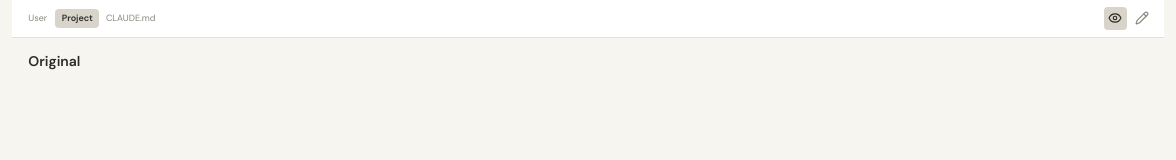
Test: MemoryEditor › shows saved status after successful save
This screenshot has width=1176, height=160.
Expected: the heading "Original" is shown, [28,52,80,70]
Click the button named "Edit mode". click: (1142, 18)
box: [1130,6,1154,30]
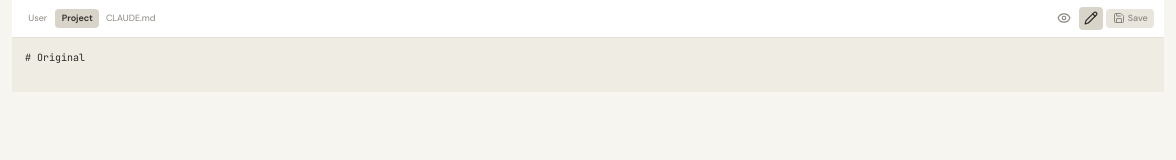
Result: the text box named "CLAUDE.md editor" is shown
Replace the text in the text box named "CLAUDE.md editor" with "# Updated". click: (588, 65)
box: [12,38,1164,92]
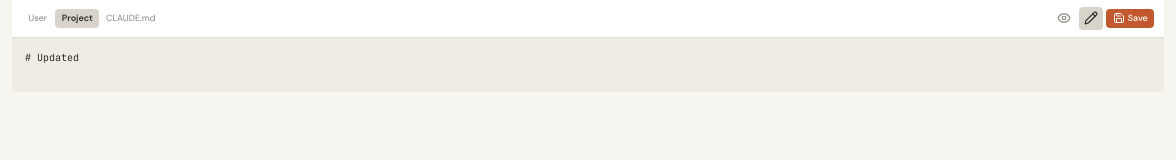
Click the button with aria-label "Save changes". click: (1130, 18)
box: [1106,9,1154,28]
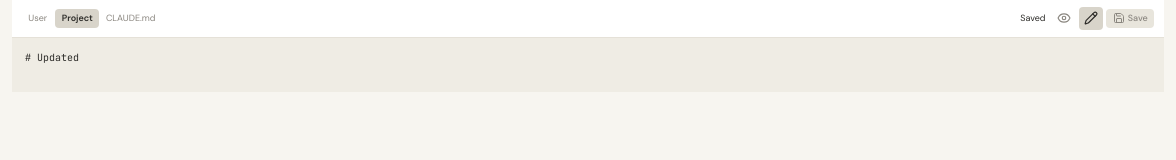
Result: the text "Saved" is shown at [1020,12,1046,24]
